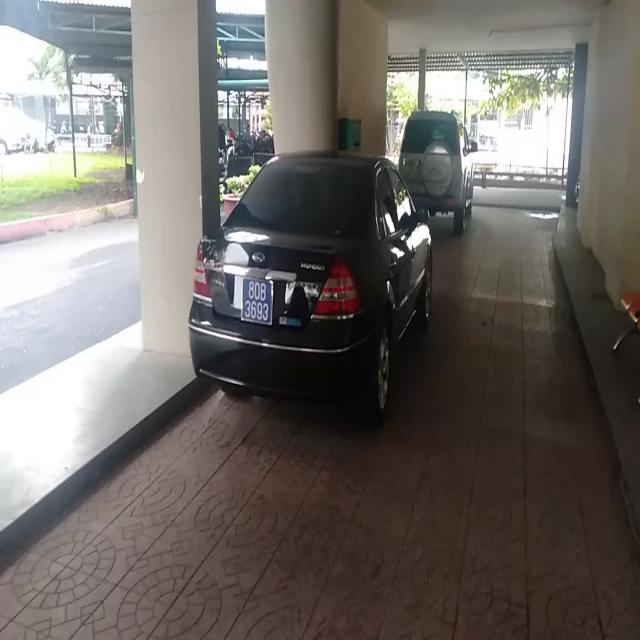bien_xanh: (240, 272, 272, 328)
